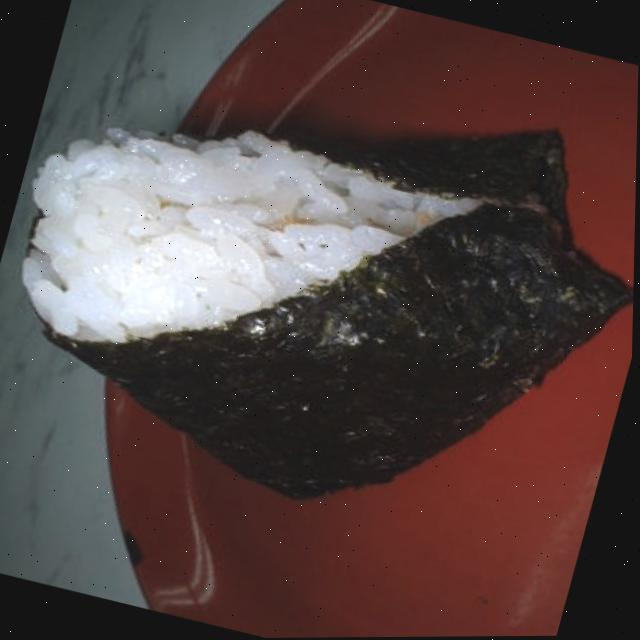米饭主食: (0, 1, 640, 572)
